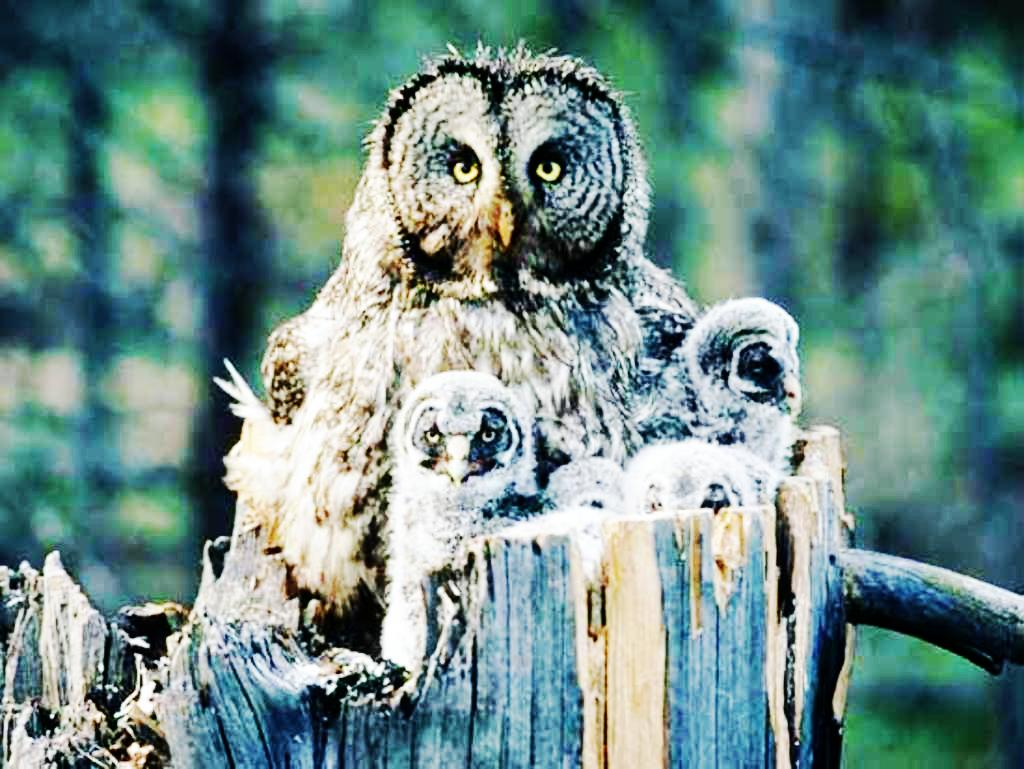Owl: (235, 39, 810, 548), (389, 376, 529, 642), (651, 304, 811, 476), (629, 446, 780, 514), (538, 454, 633, 540)
